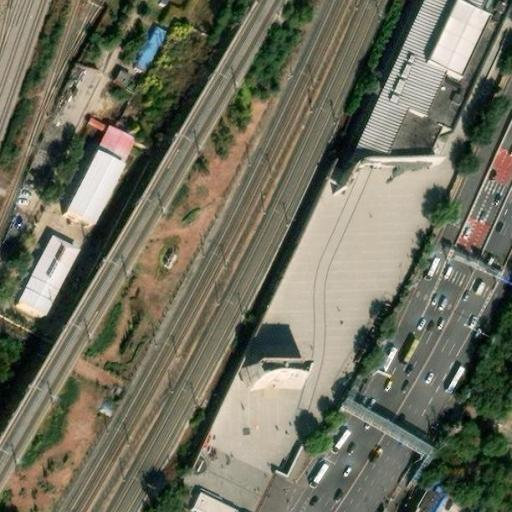building: (348, 0, 491, 182), (12, 236, 77, 320), (56, 150, 120, 231), (130, 19, 168, 70), (89, 124, 133, 166), (187, 492, 234, 512), (411, 491, 439, 512), (108, 61, 131, 85)
